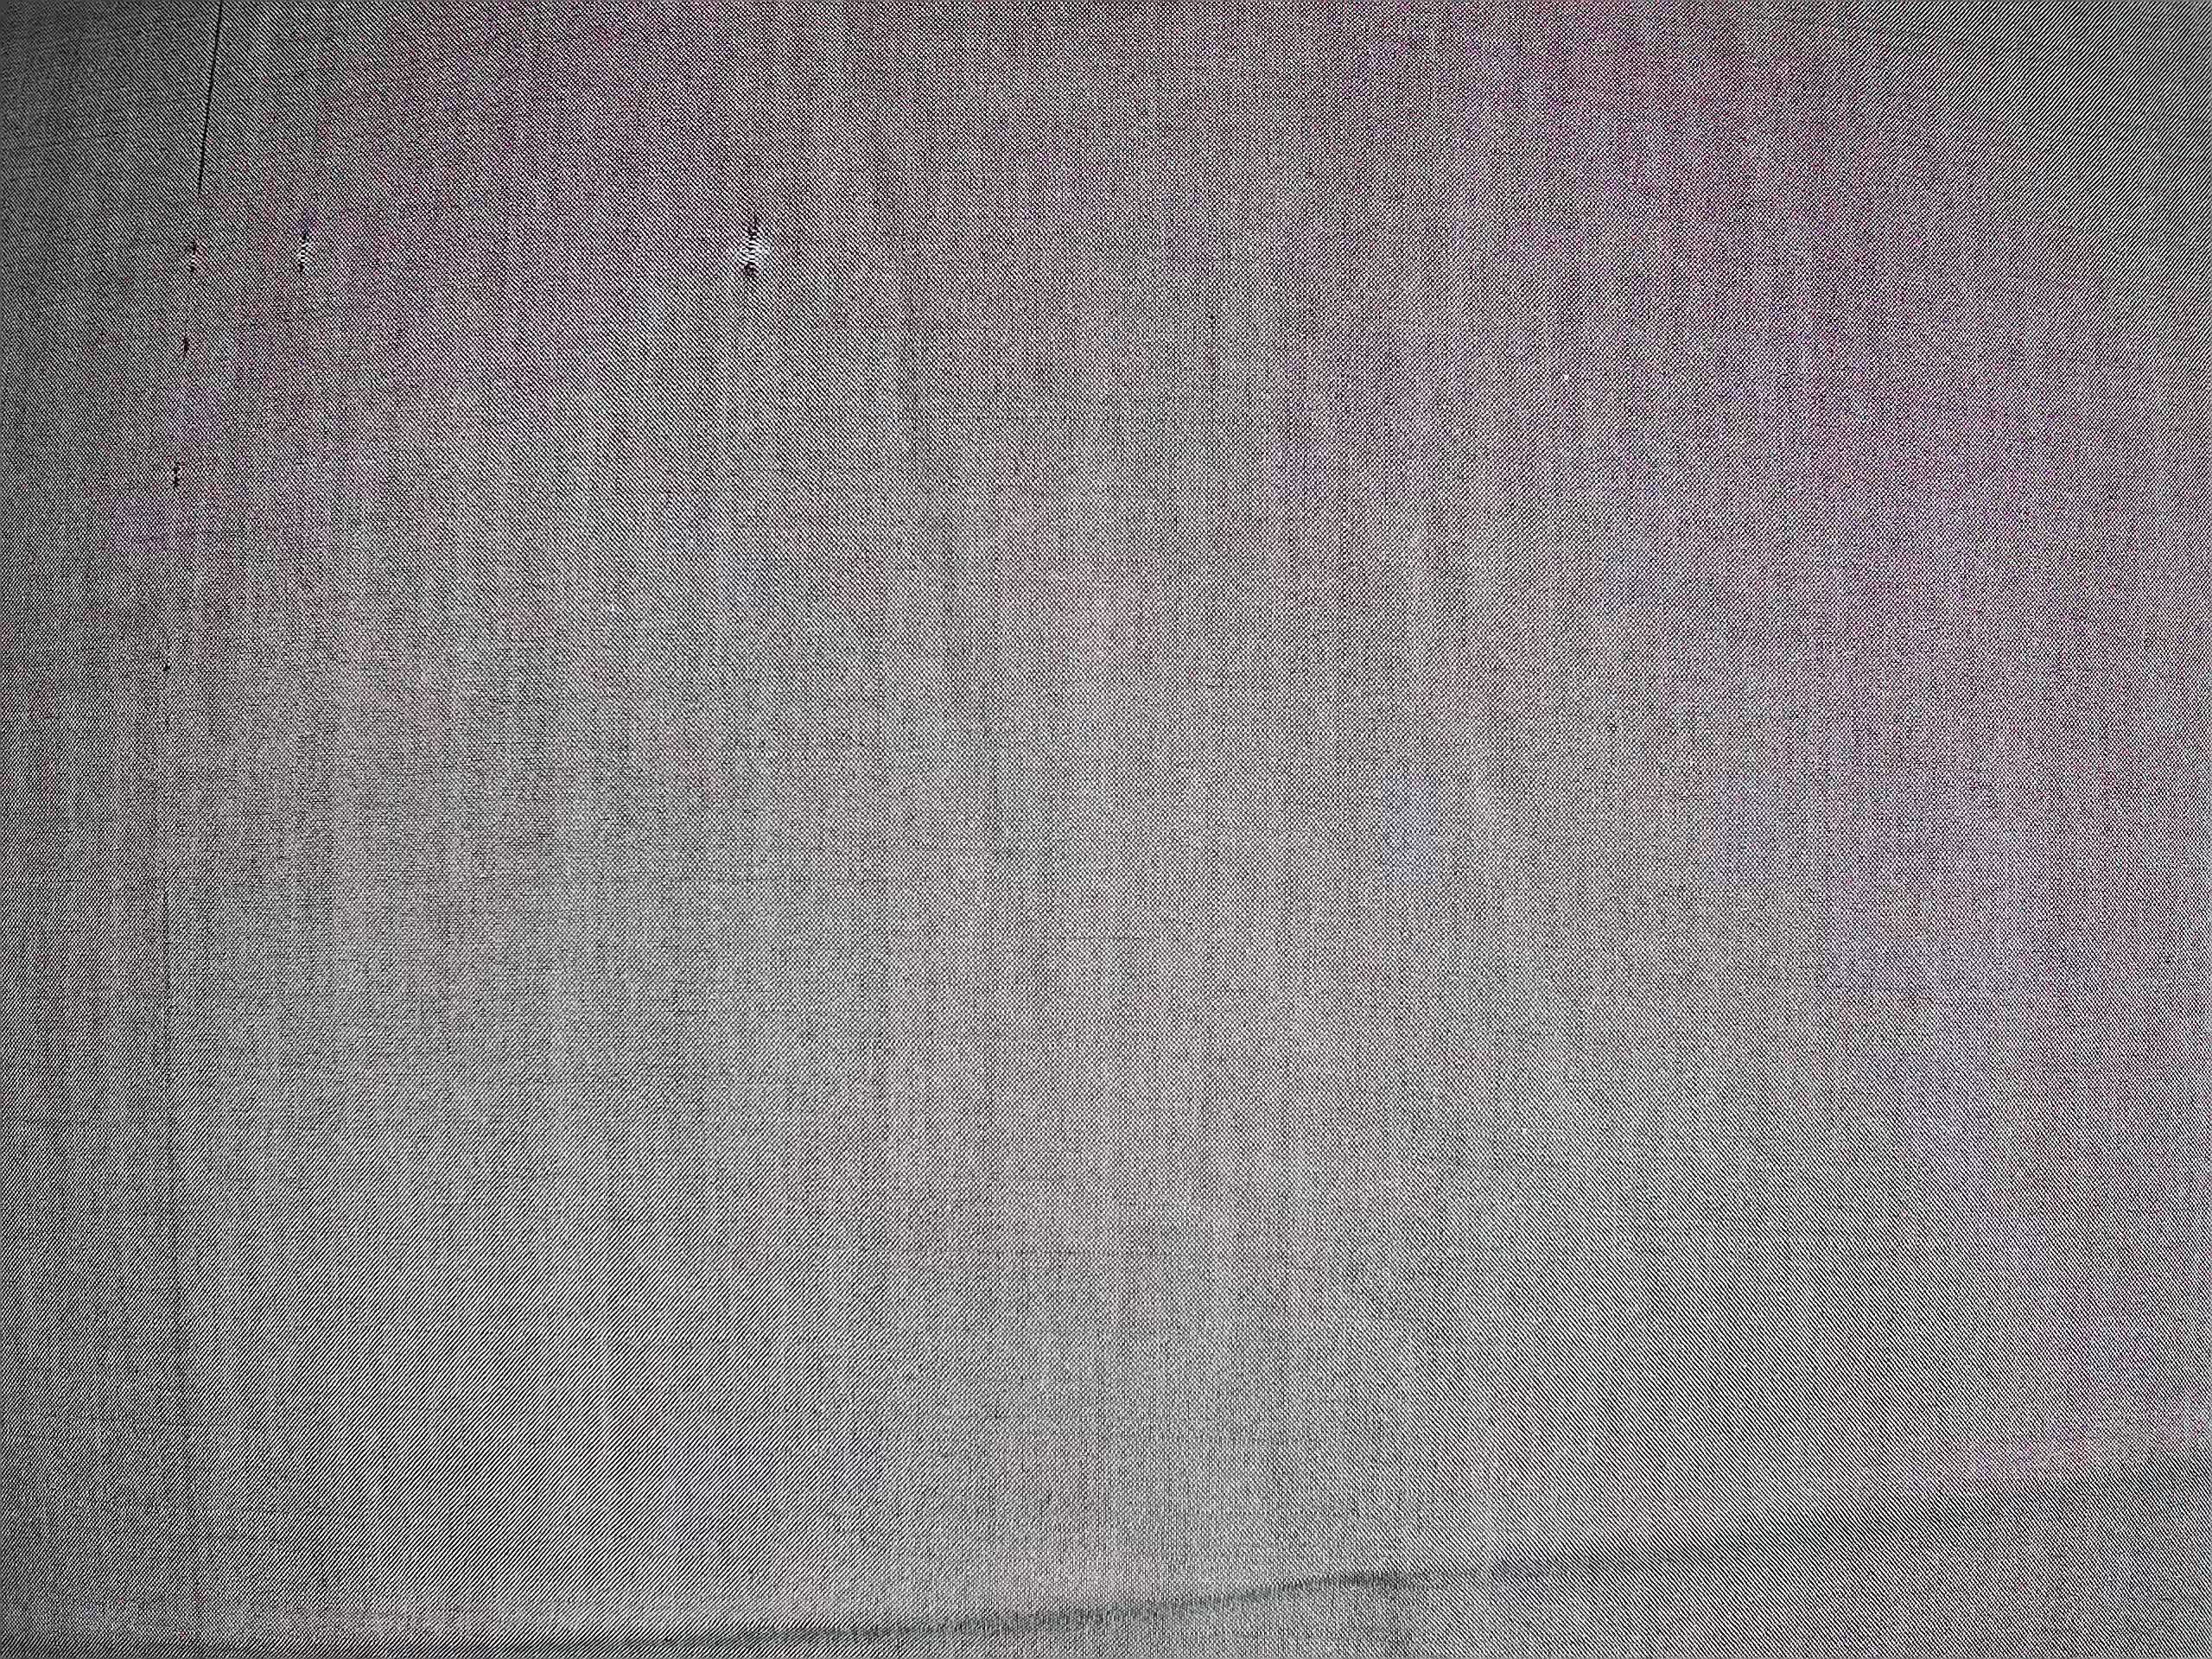hanging-warp: (162, 0, 225, 617), (721, 183, 782, 312), (282, 202, 329, 298)
